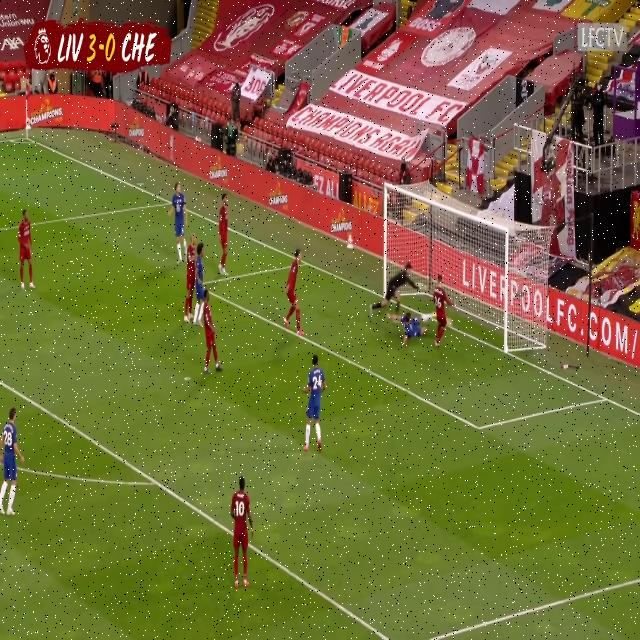GoalKeeper: (371, 260, 426, 319)
TEAM 1: (230, 478, 254, 592), (200, 292, 226, 376), (282, 250, 304, 338), (432, 278, 453, 348), (182, 229, 196, 323), (18, 211, 34, 292), (216, 192, 230, 276)
TEAM 2: (301, 354, 327, 456), (1, 409, 24, 517), (194, 235, 209, 327), (170, 182, 187, 258), (402, 311, 425, 344)
